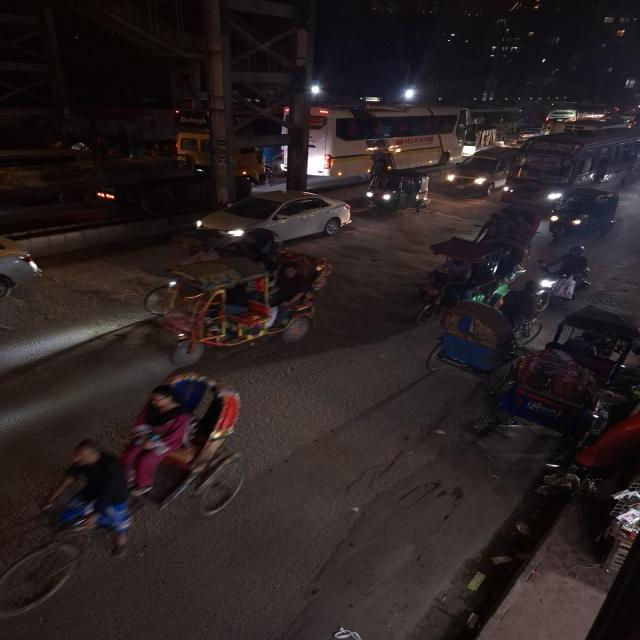bus: (307, 104, 466, 174), (506, 125, 640, 202)
car: (193, 191, 356, 250), (0, 232, 49, 334), (443, 147, 511, 196)
cng: (544, 188, 622, 241), (362, 170, 434, 215)
motorcycle: (550, 244, 596, 294)
rickshaw: (1, 366, 251, 630), (141, 249, 338, 363), (504, 337, 640, 432), (424, 301, 531, 379), (484, 206, 538, 245)
